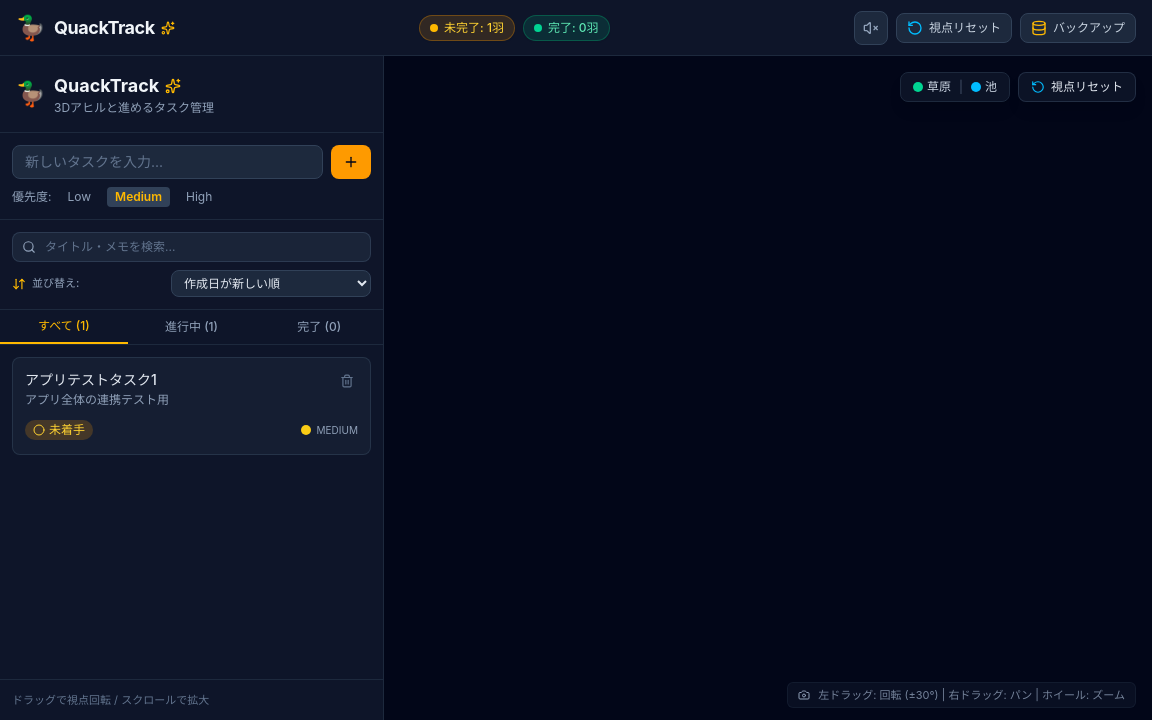
Test: App Integration › opens and closes BackupModal via header button and close actions
Open modal via header button
Click the button with test id "backup-modal-open-button" at {"x": 1078, "y": 28}, box [1020,12,1136,42]
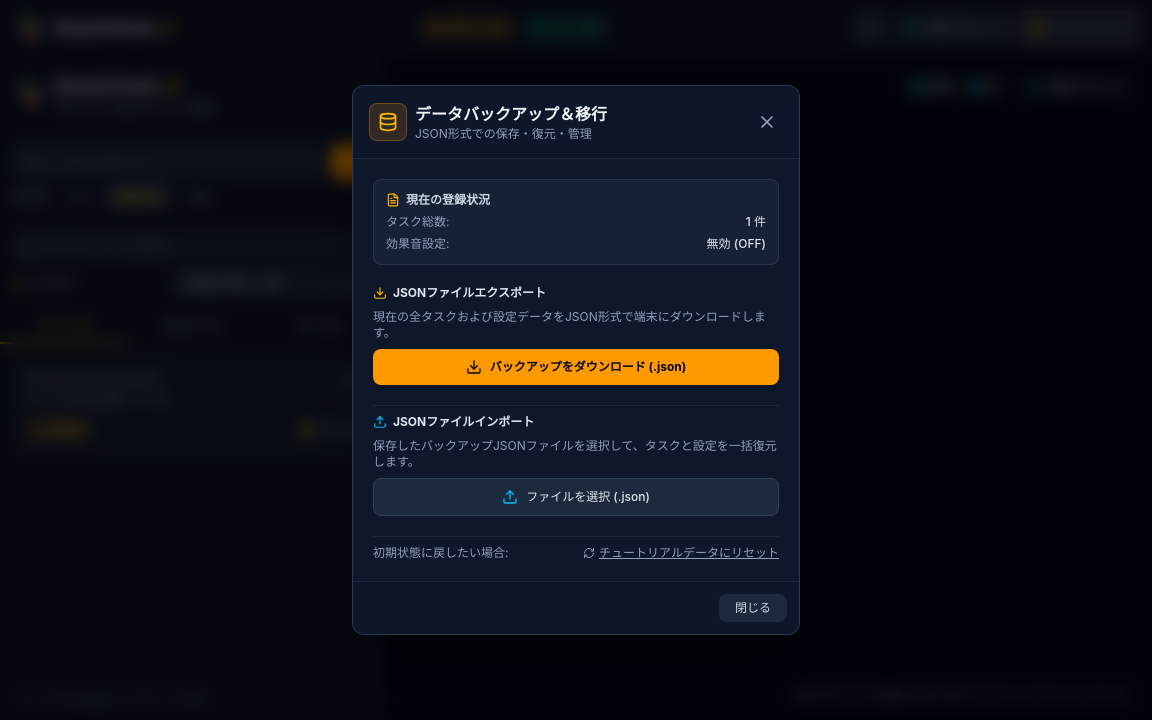
Expected: the dialog with test id "backup-modal" is shown
Close via Esc key
Press Escape
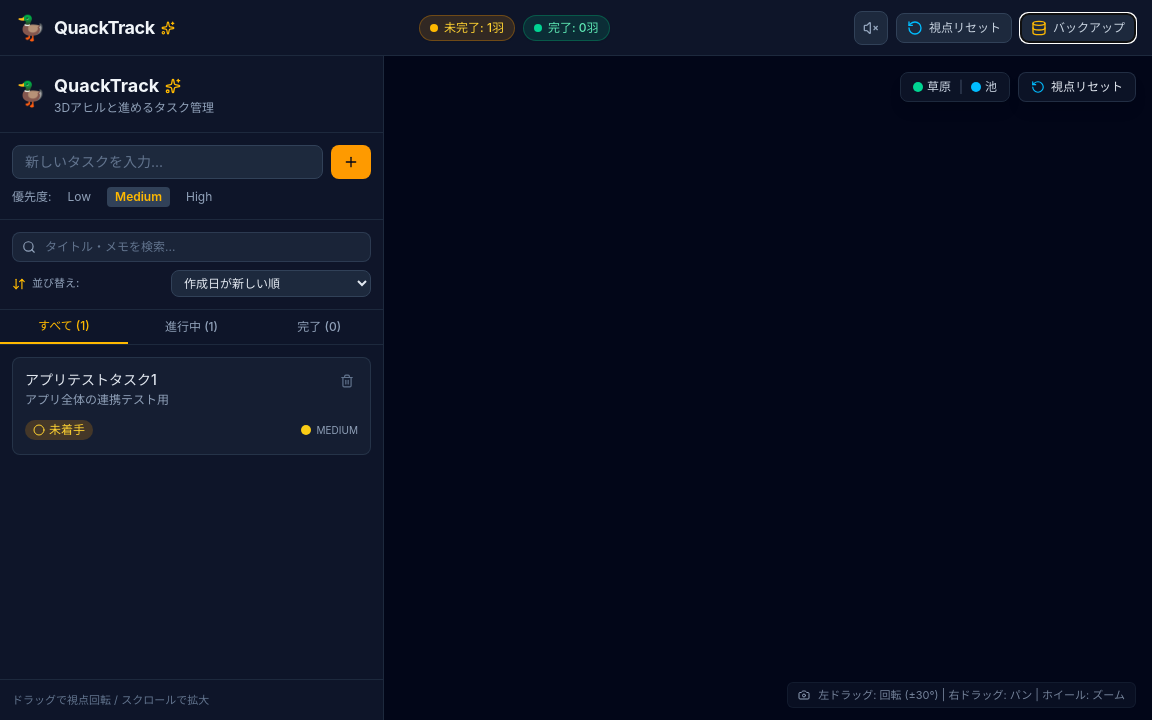
Expected: the dialog with test id "backup-modal" is gone
